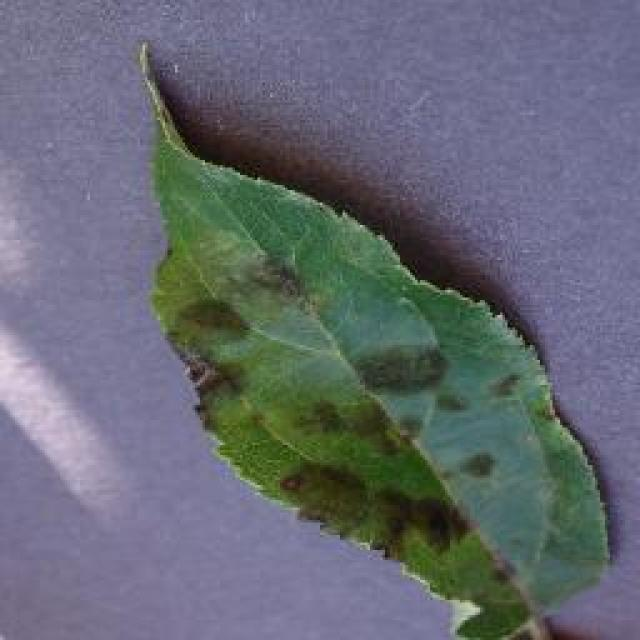apple scab disease: (132, 38, 612, 638)
